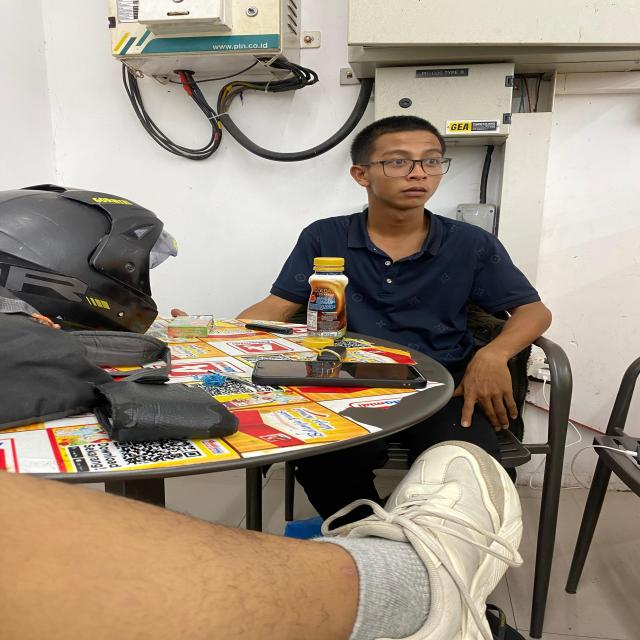nohelmet: (350, 108, 454, 215)
